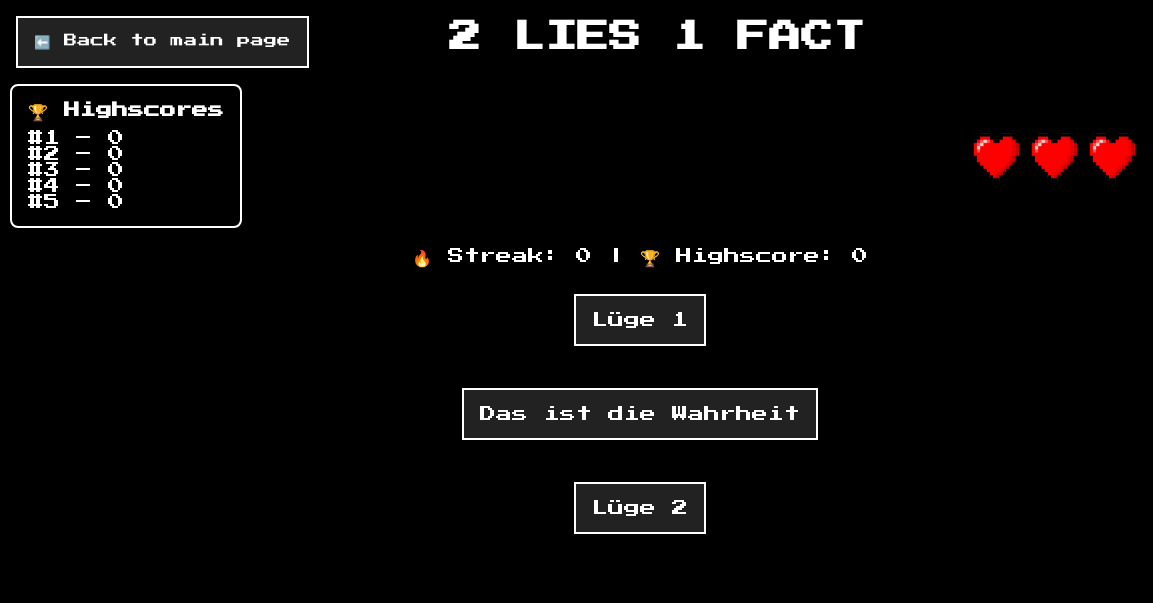
Test: GamePage › erhöht die Streak bei richtiger Antwort
Click the button "Das ist die Wahrheit" at [640, 414], box [462,388,818,440]
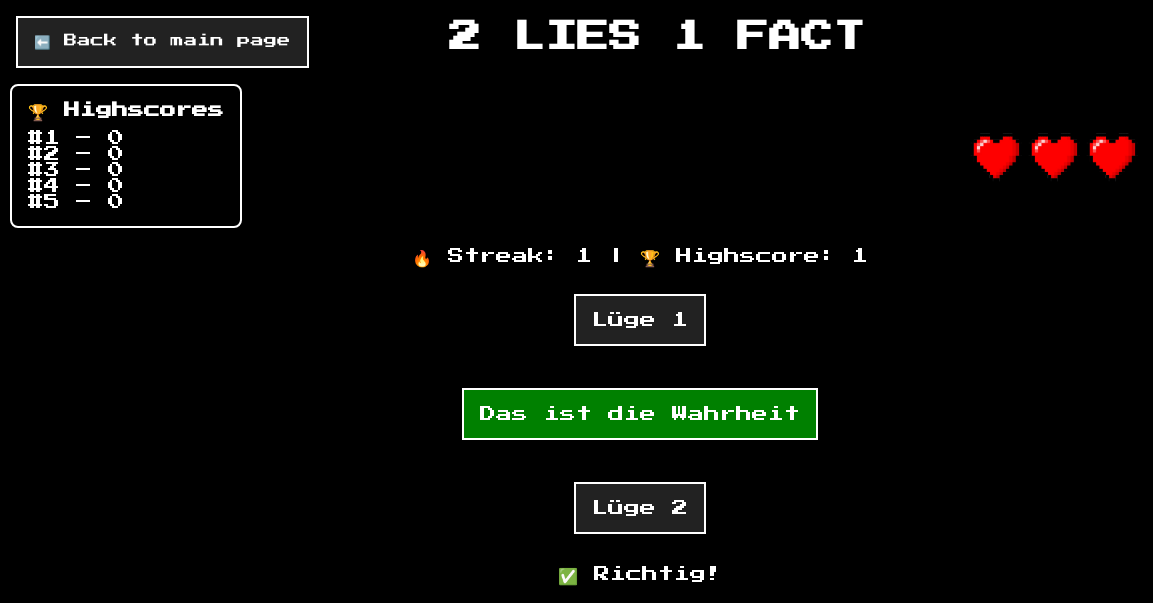
Expected: the text "✅ Richtig!" is shown, [558,566,722,582]
